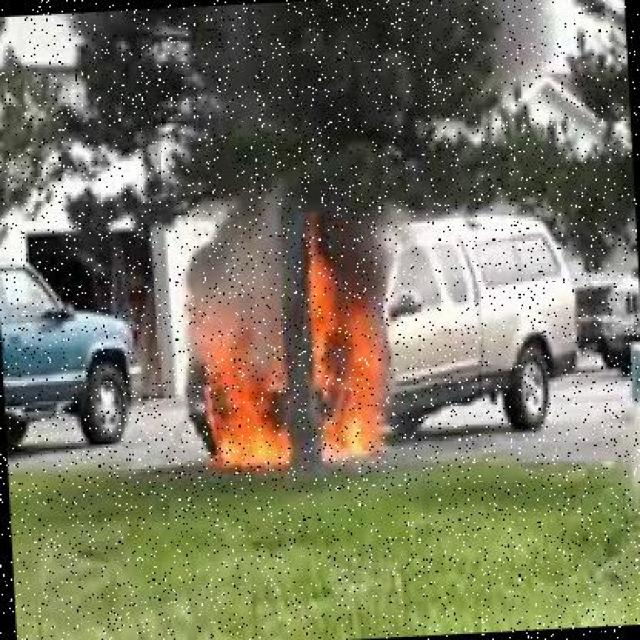fire: (177, 199, 403, 486)
